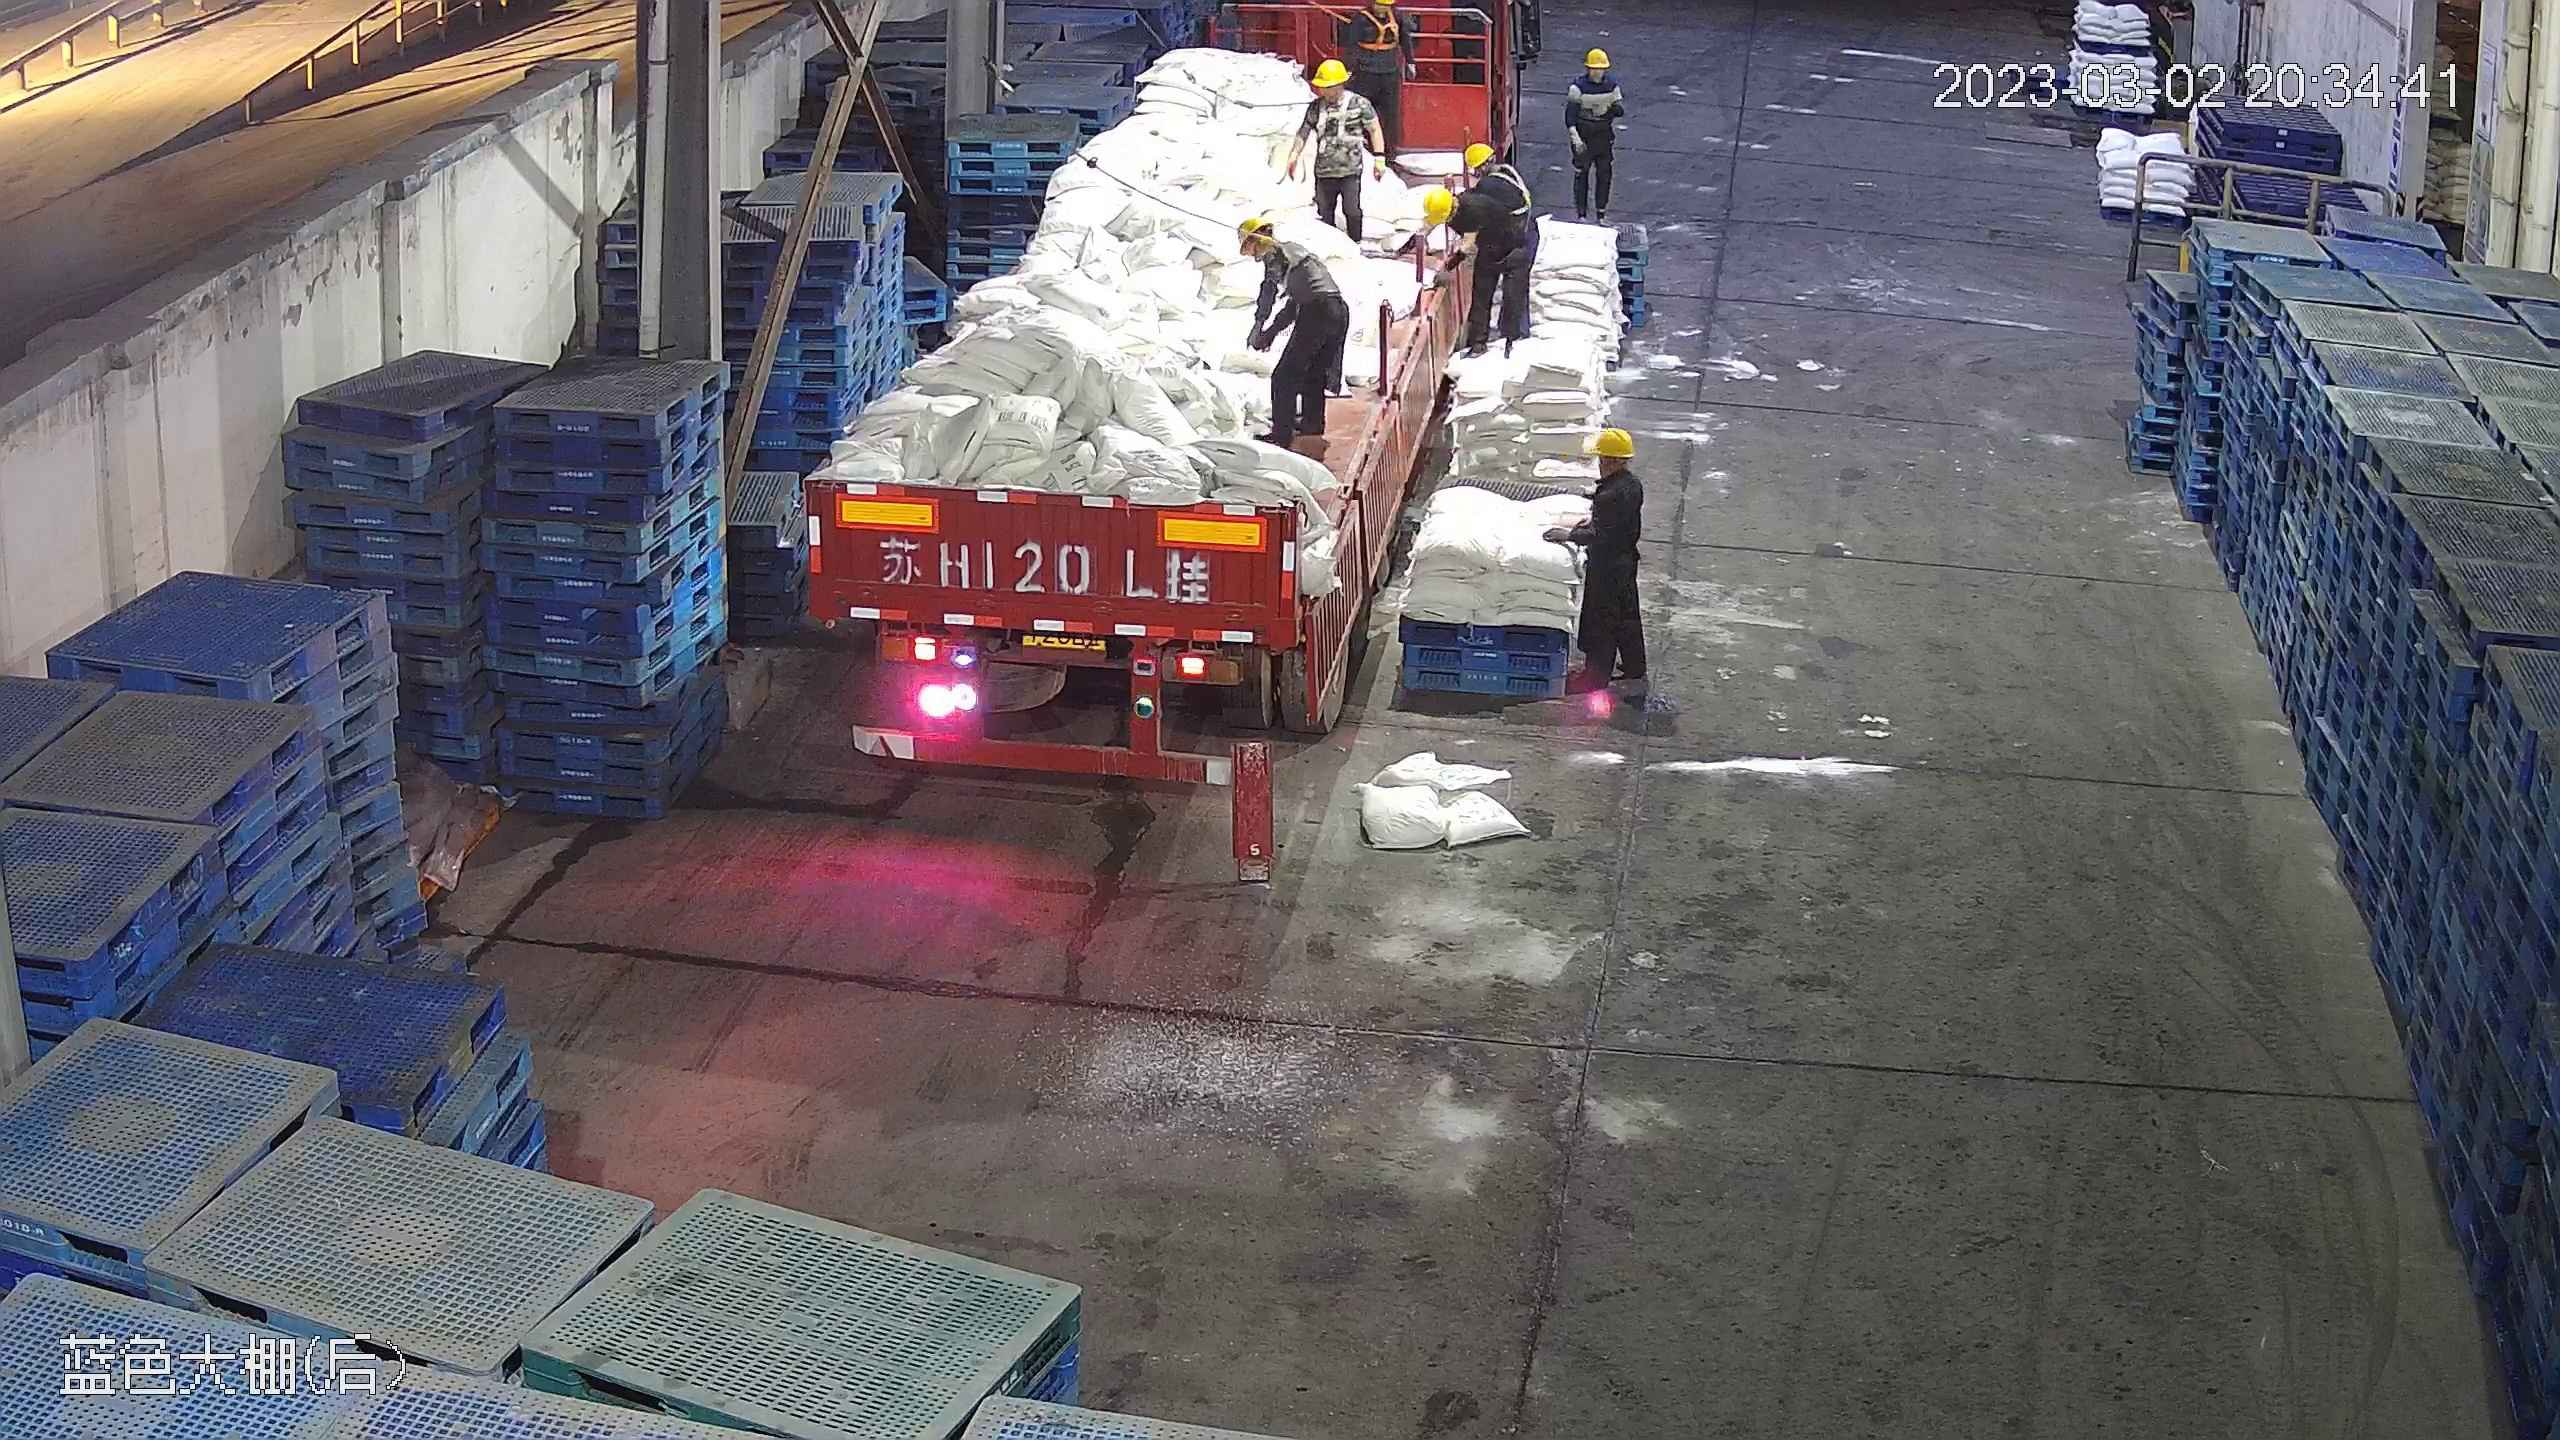belt: (1309, 93, 1370, 156), (1271, 236, 1335, 294), (1478, 164, 1535, 218), (1358, 4, 1407, 50)
head: (1579, 425, 1645, 520), (1243, 215, 1328, 286), (1303, 53, 1375, 129), (1455, 139, 1528, 204), (1416, 179, 1483, 238), (1566, 45, 1622, 100), (1352, 1, 1408, 38)
helmet: (1566, 44, 1621, 98), (1316, 45, 1369, 87), (1306, 54, 1351, 90), (1236, 214, 1276, 251), (1588, 424, 1633, 456), (1419, 186, 1455, 221), (1461, 138, 1495, 168), (1583, 45, 1611, 67)
people: (1243, 214, 1350, 458), (1562, 424, 1656, 697), (1418, 183, 1532, 352), (1291, 54, 1386, 247), (1561, 43, 1629, 223), (1339, 1, 1416, 162)
truck: (808, 13, 1490, 781)
